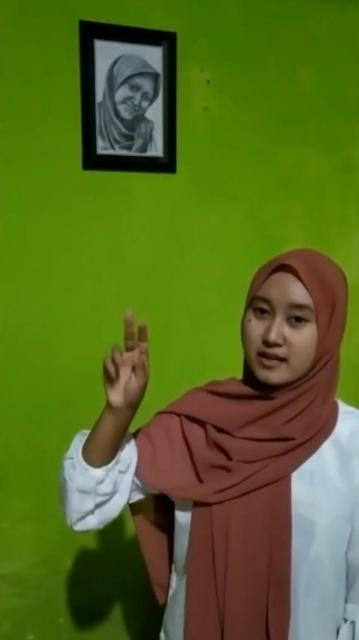R: (95, 304, 161, 412)
